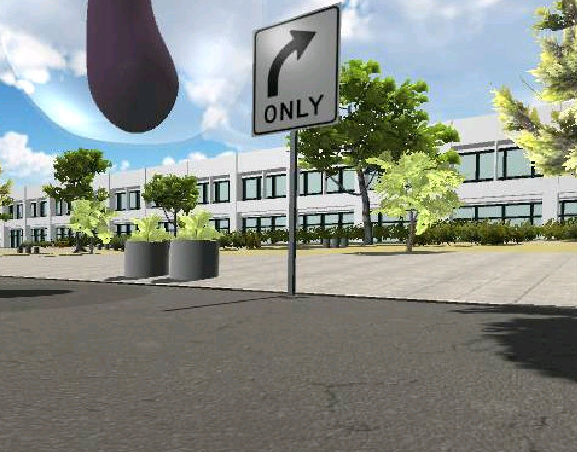arrow_right: (258, 29, 323, 97)
